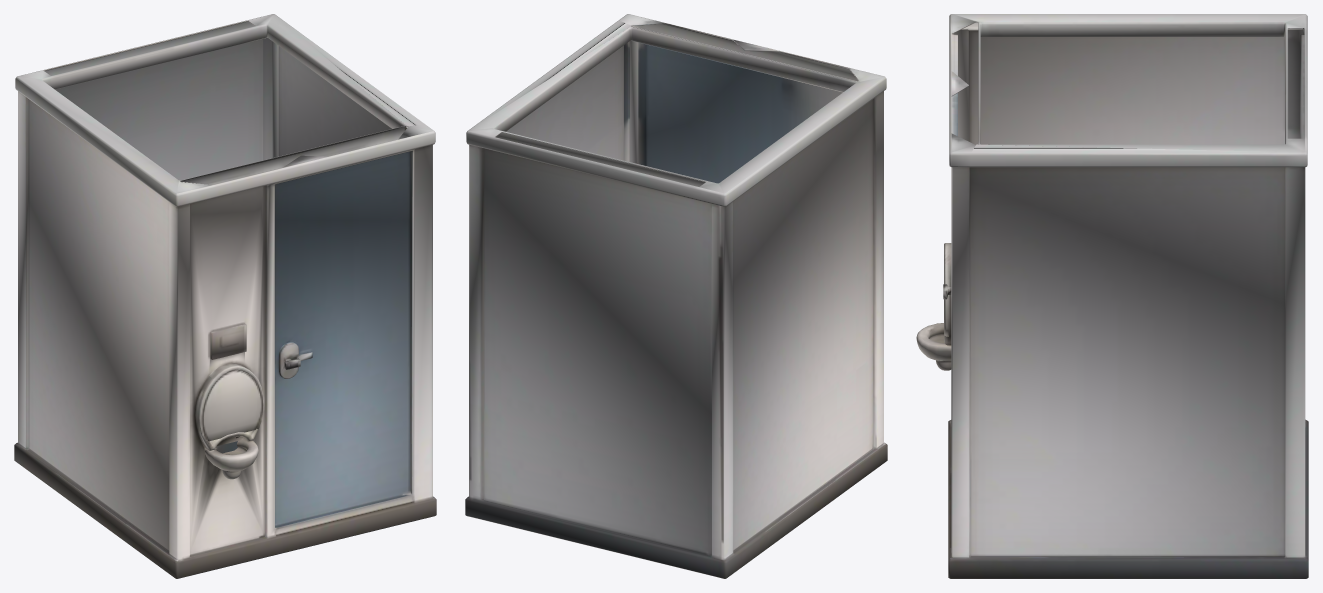
The model's file is public_bathroom_cubicle_03099180_v2.glb.
3 renders of one model, left to right at view 1: azimuth 30°, elevation 25°; view 2: azimuth 150°, elevation 25°; view 3: azimuth 270°, elevation 25°, orthographic. The views are drawn at different scales.
Visible parts, largest first — view 1: mesh_input; view 2: mesh_input; view 3: mesh_input.
Part boxes in pixels (box(x1,y1,x2,y2)): mesh_input: box(14, 14, 436, 578); mesh_input: box(465, 14, 887, 578); mesh_input: box(916, 14, 1308, 578).
Bounding box in the file's own units: 1.35 × 1.9 × 1.59.
1 material, 1 textured.
